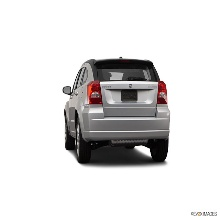no damage: (62, 56, 171, 163)
